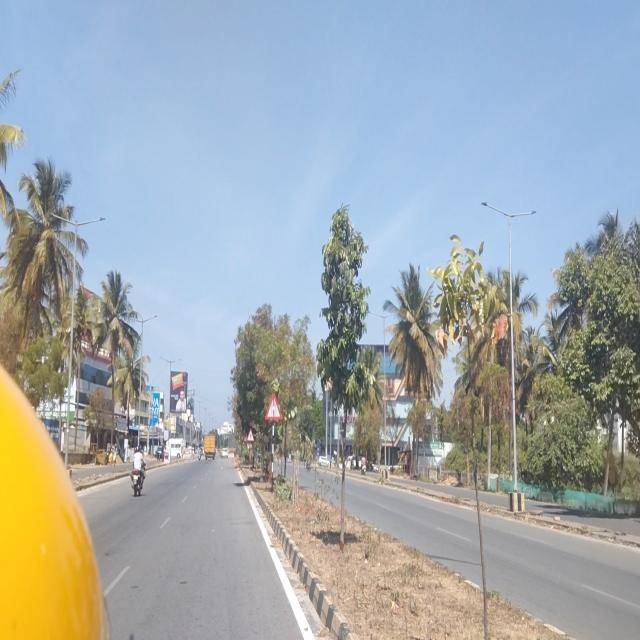bien_nguy_hiem: (264, 392, 282, 421), (247, 429, 254, 441)
